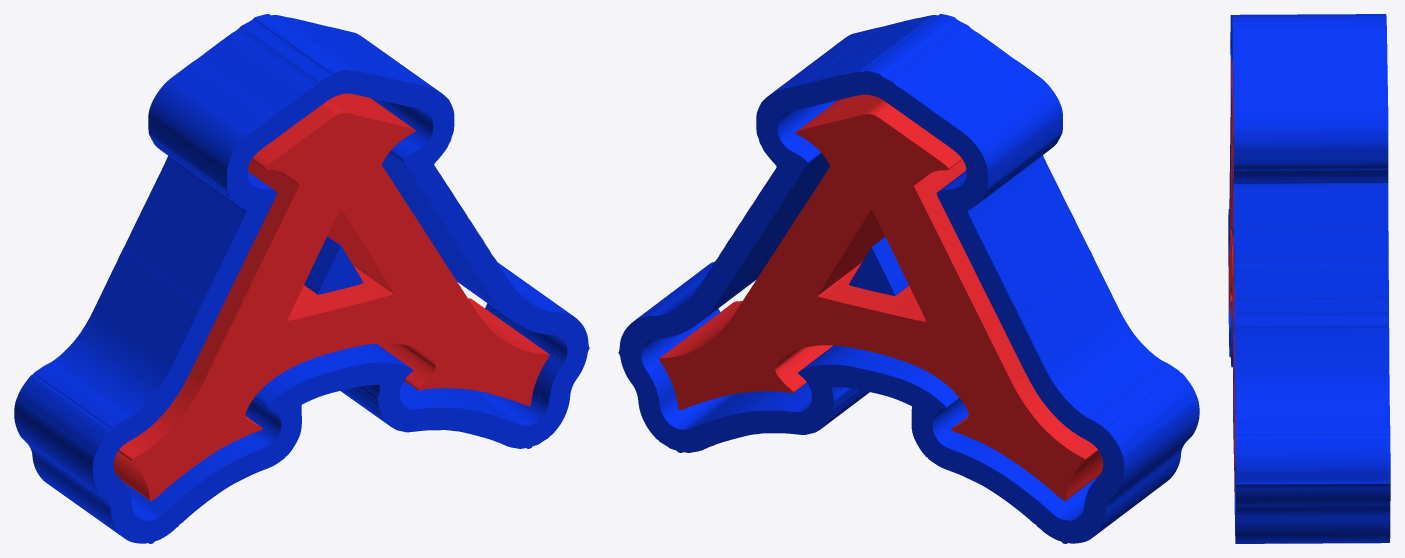
The model's file is acereross.glb.
3 views of the same model, side by side, from view 1: azimuth 30°, elevation 25°; view 2: azimuth 150°, elevation 25°; view 3: azimuth 270°, elevation 25° (orthographic).
Parts seen in each view (by area): view 1: Curve.001; view 2: Curve.001; view 3: Curve.001.
Boxes of the visible parts, bbox=[...] form: Curve.001: bbox=[14, 14, 589, 543]; Curve.001: bbox=[618, 14, 1199, 543]; Curve.001: bbox=[1228, 14, 1390, 543].
Bounding box in the file's own units: 2.13 × 1.72 × 0.5912.
